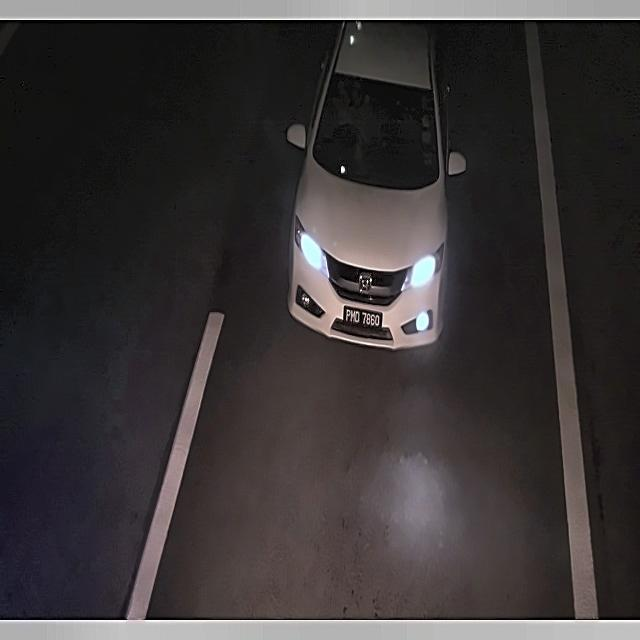car: (341, 299, 387, 336)
